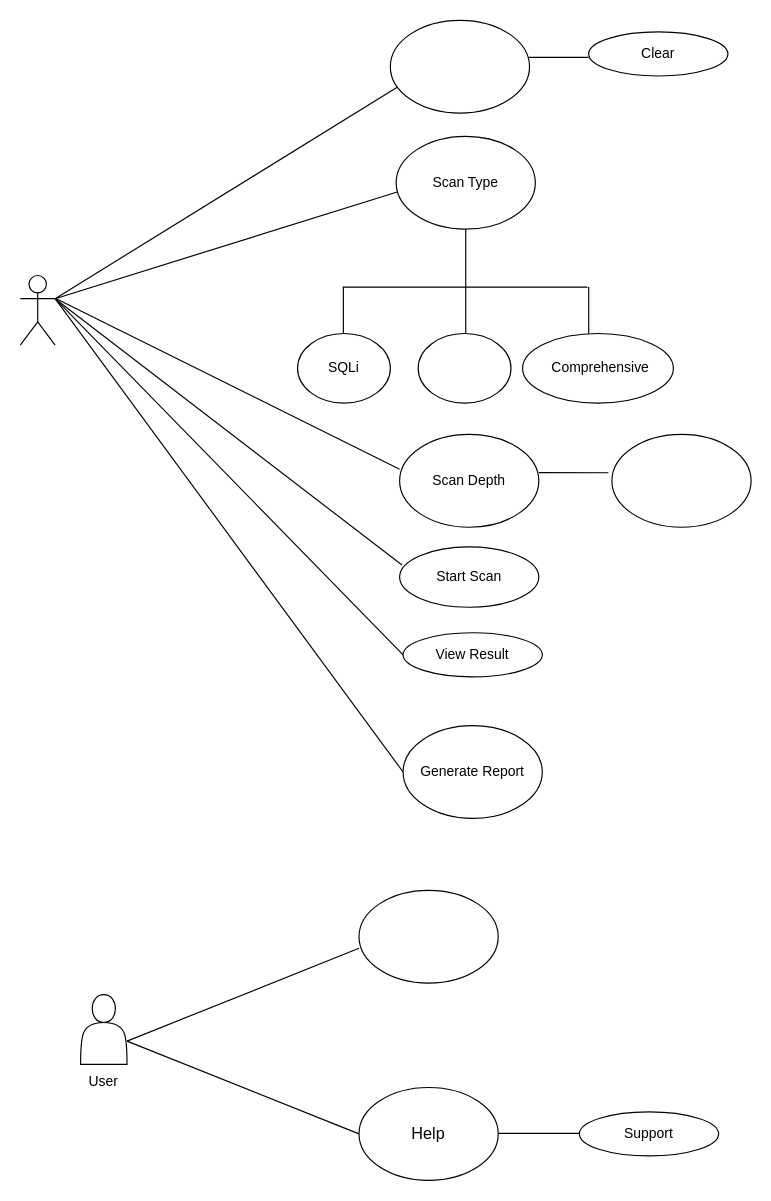
The diagram is 771 pixels wide and 1201 high, and some of its shapes have lost their labels. Each missing label, with the centre of its shape:
"Actor" belongs at (x=37, y=309).
"Configure Settings" belongs at (x=428, y=936).
"Input URL" belongs at (x=459, y=66).
"Timeout" belongs at (x=681, y=480).
"XSS" belongs at (x=464, y=367).
